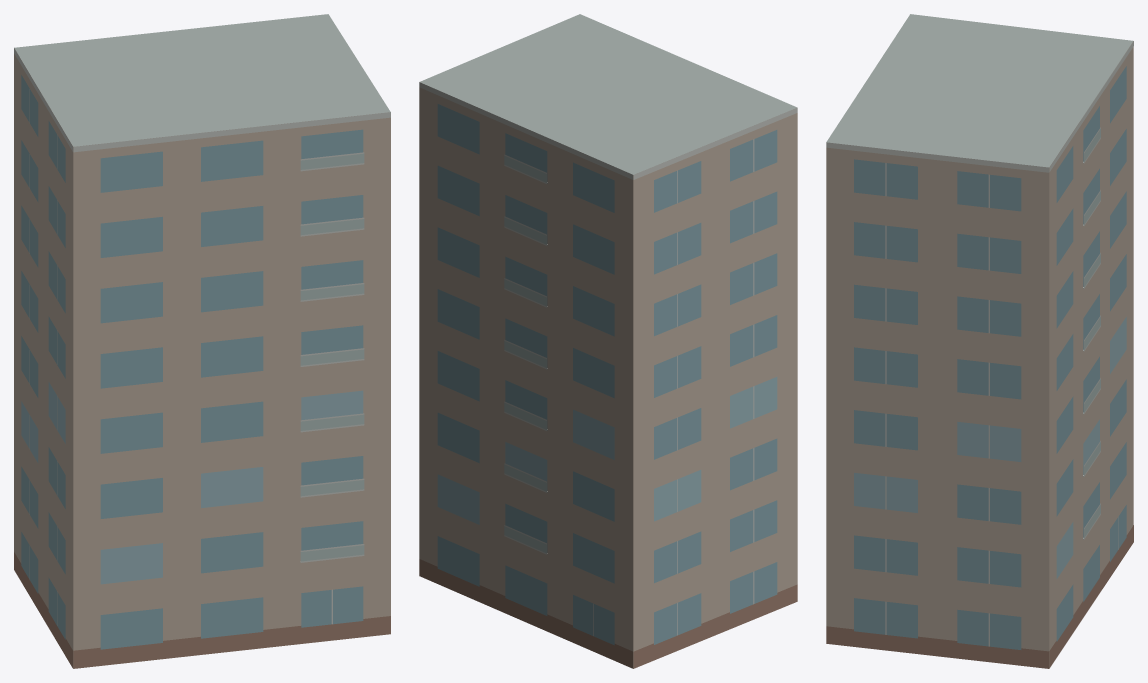
File: survey-upis-32876995.glb
The picture shows the model from 3 angles, left to right: view 1: azimuth 30°, elevation 25°; view 2: azimuth 150°, elevation 25°; view 3: azimuth 270°, elevation 25°; orthographic projection. The views are drawn at different scales.
Visible parts, largest first — view 1: survey-upis-32876995.tmp; view 2: survey-upis-32876995.tmp; view 3: survey-upis-32876995.tmp.
Part boxes in pixels (x1=…): survey-upis-32876995.tmp: x1=14, y1=14, x2=390, y2=668; survey-upis-32876995.tmp: x1=419, y1=14, x2=797, y2=668; survey-upis-32876995.tmp: x1=826, y1=14, x2=1133, y2=668.
Bounding box in the file's own units: 15.18 × 23.1 × 12.85.
